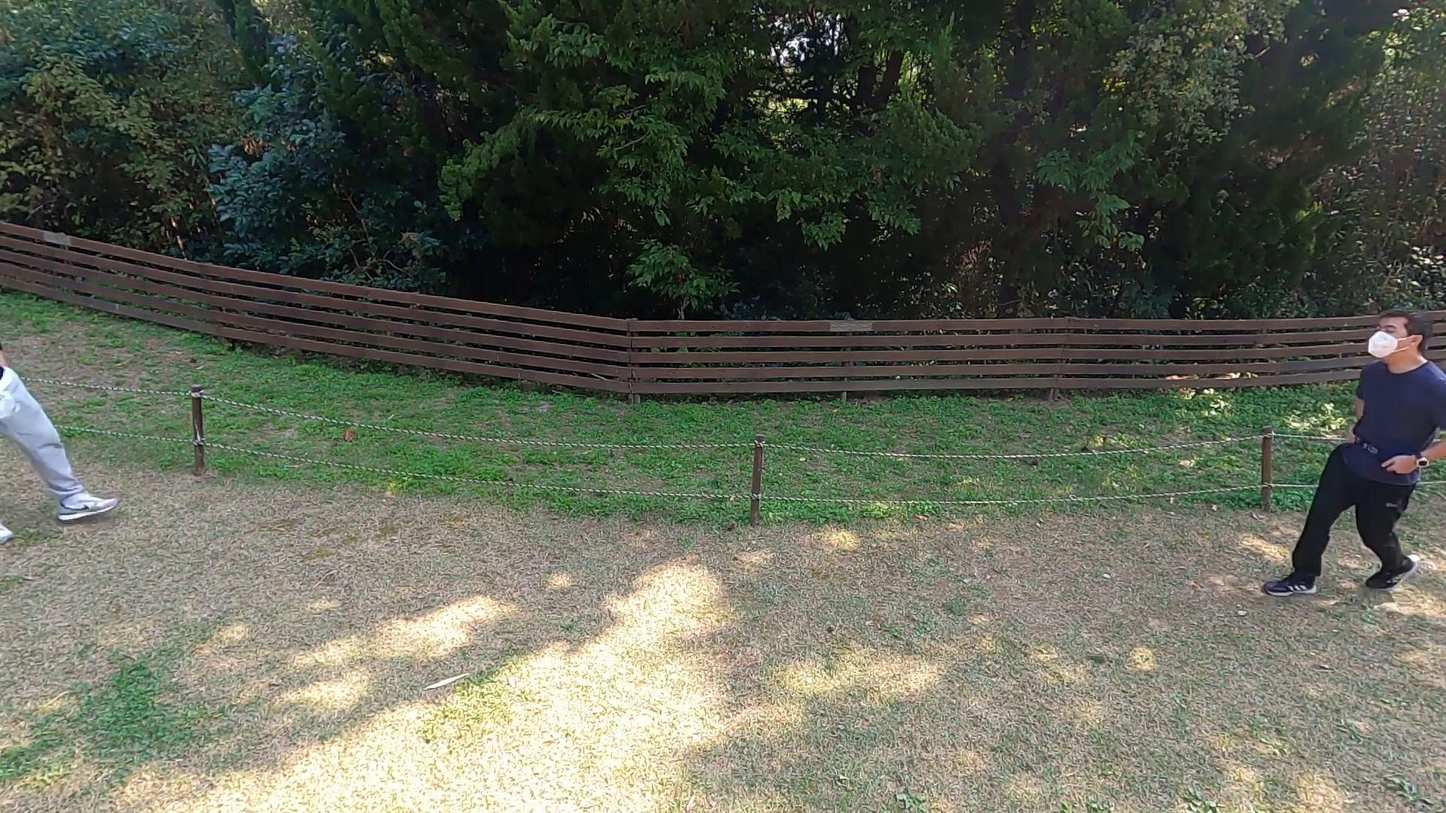person: (1255, 309, 1446, 604), (0, 333, 120, 554)
